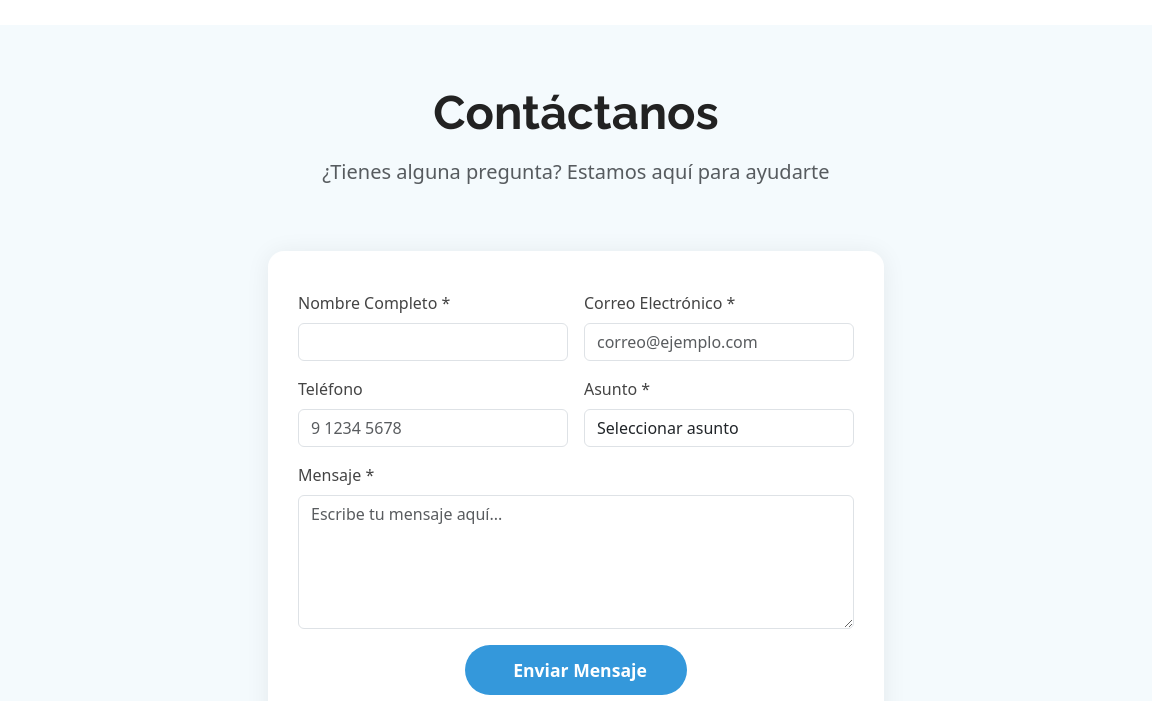
Home.jsx › Formulario de contacto: éxito con datos válidos
The width and height of the screenshot is (1152, 701).
(page scrolled)
Type "Juan Pérez" into the field labelled "Nombre Completo *" at (433, 342), box 298,323 -> 568,361
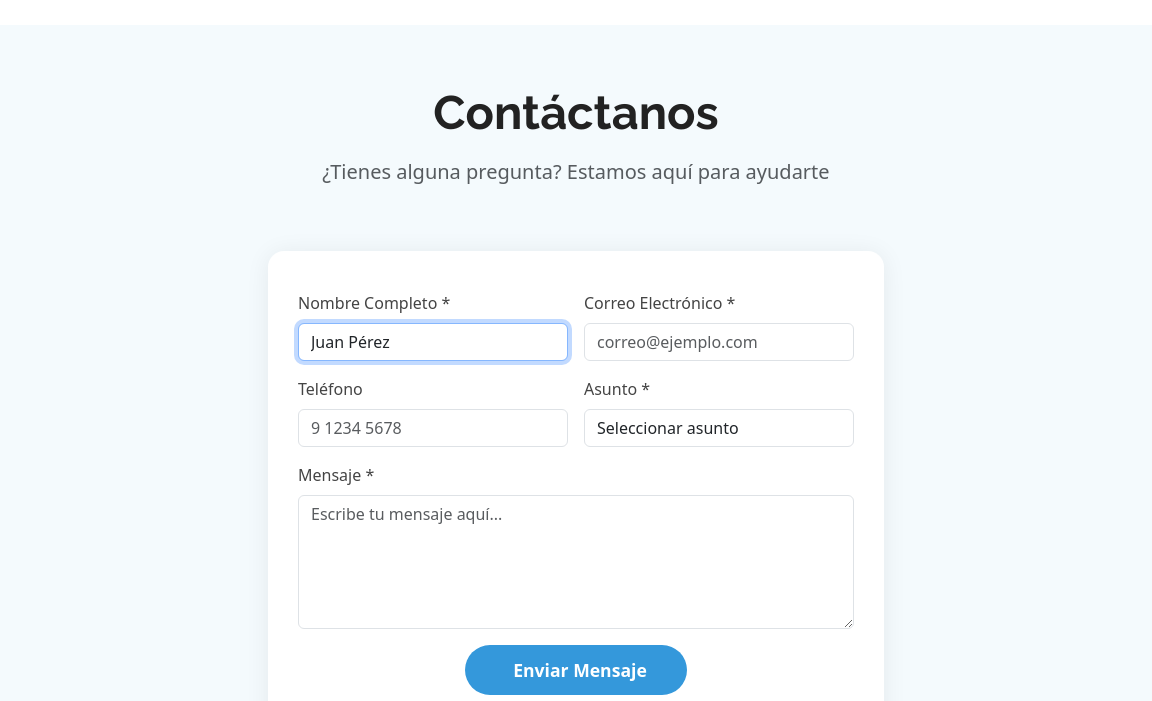
Type "juan@example.com" into the field labelled "Correo Electrónico *" at (719, 342), box 584,323 -> 854,361
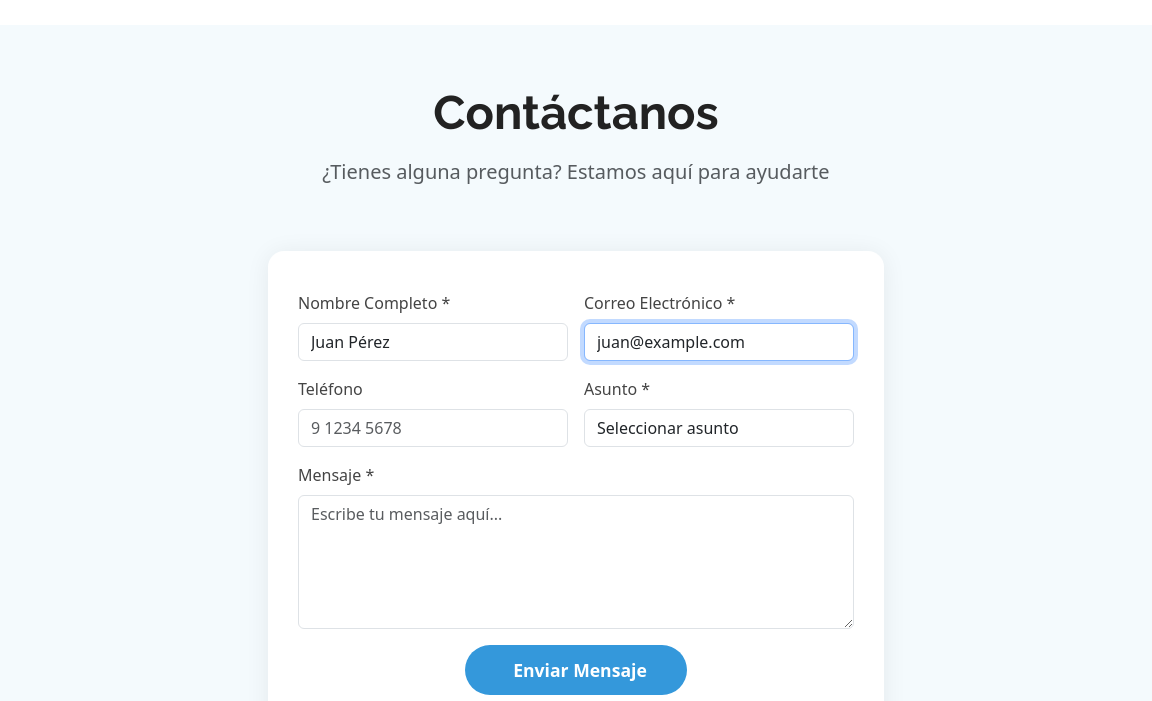
Type "912345678" into the field labelled "Teléfono" at (433, 428), box 298,409 -> 568,447
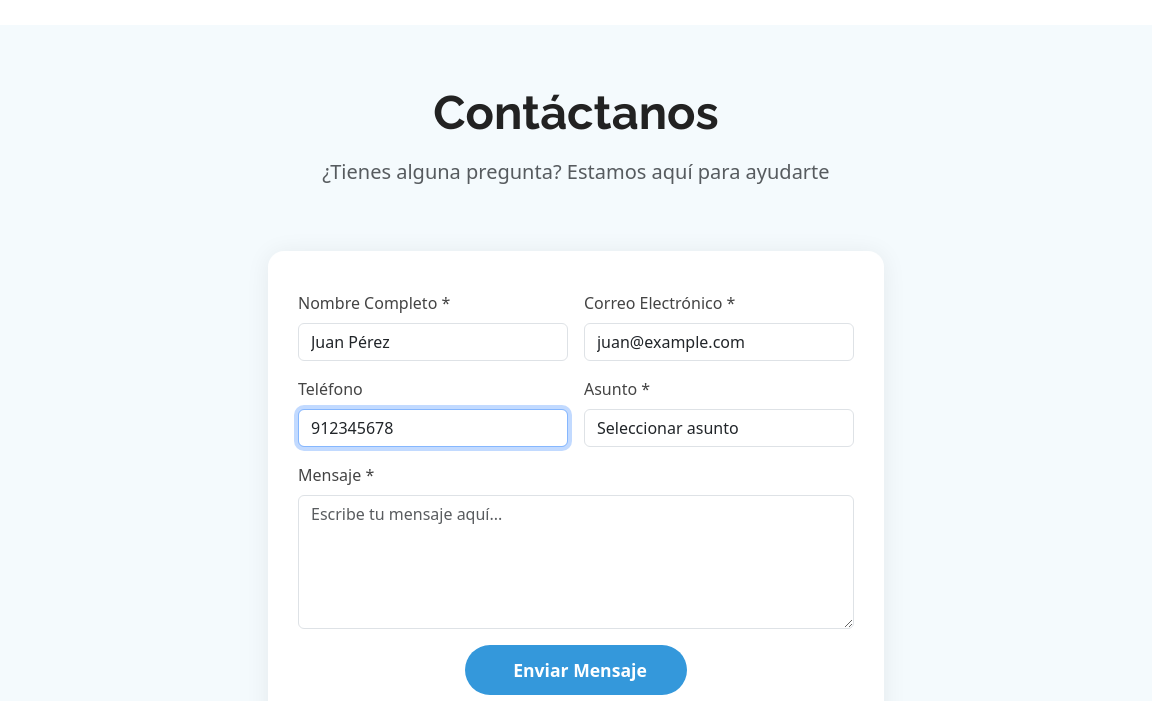
Select "Consulta General" in the dropdown labelled "Asunto *" at (719, 428), box 584,409 -> 854,447
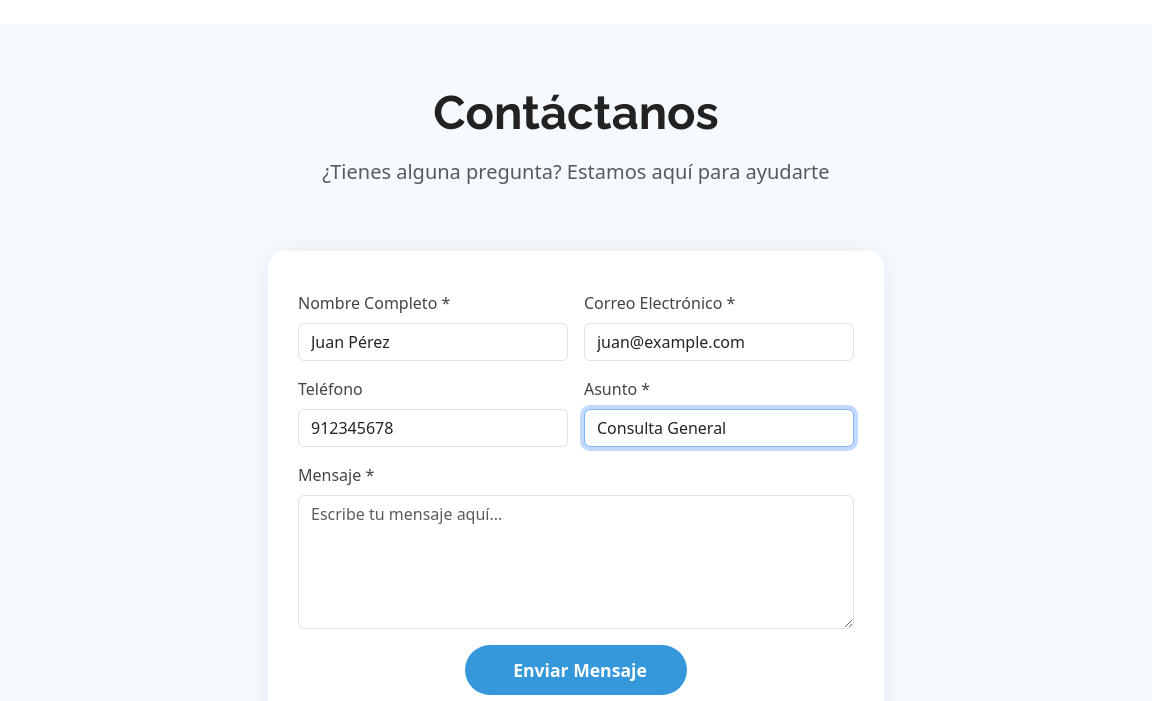
Type "Este es un mensaje válido que supera diez caracteres" into the text box labelled "Mensaje *" at (576, 562), box 298,495 -> 854,629
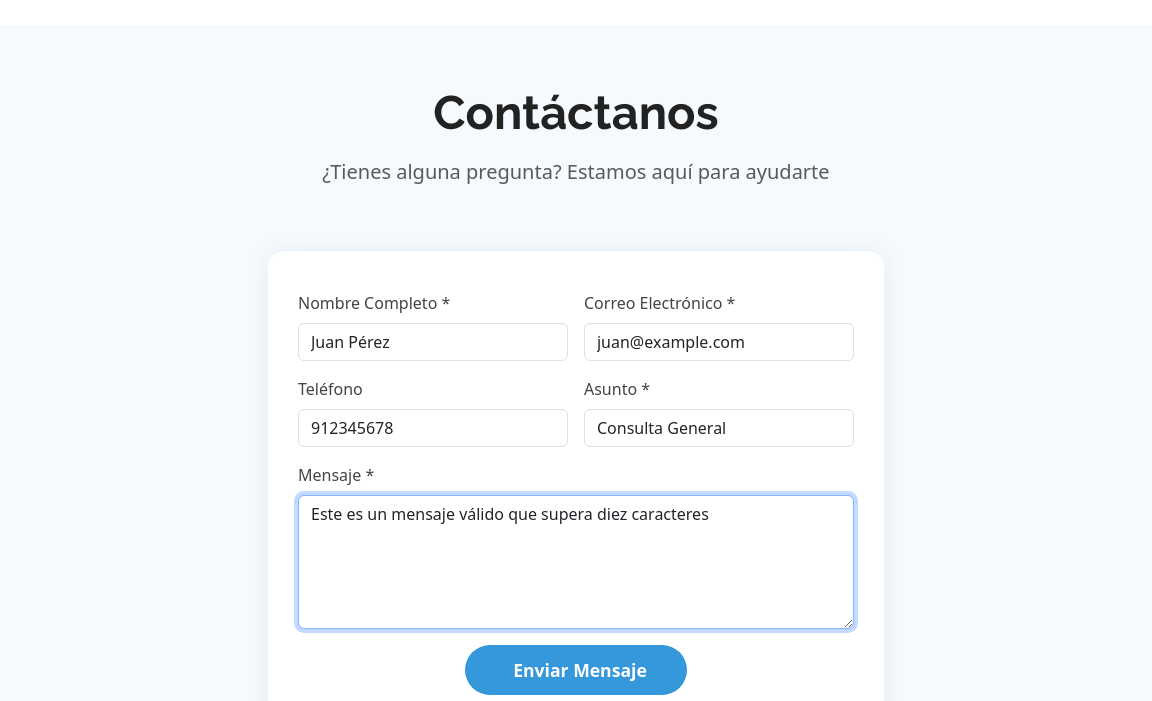
Click the button "Enviar Mensaje" at (576, 670), box 465,645 -> 687,695
(page scrolled)
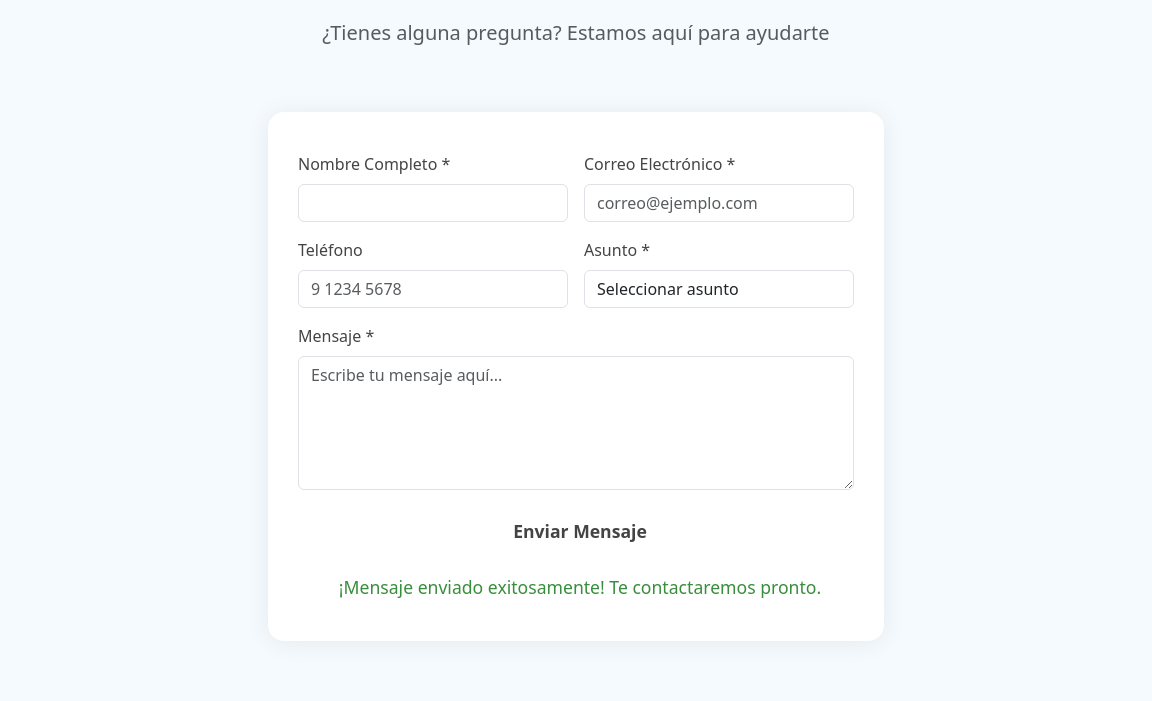
Check: the text "¡Mensaje enviado exitosamente! Te contactaremos pronto." is shown, box 298,574 -> 854,601
